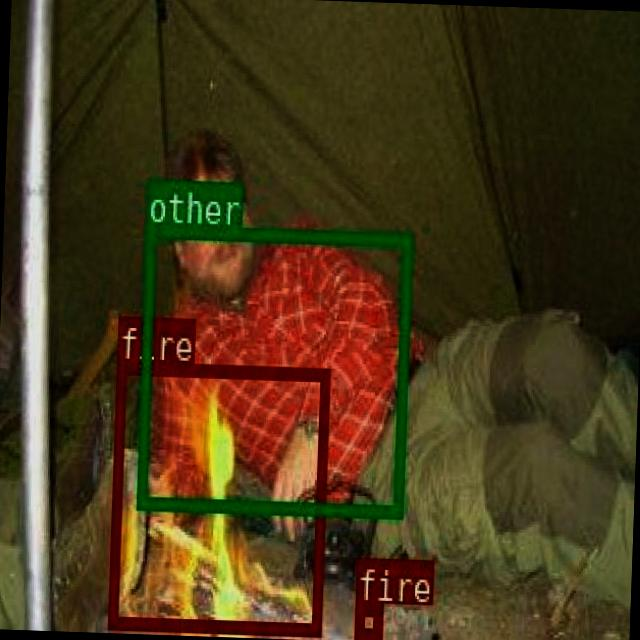fire: (108, 360, 328, 634), (352, 602, 380, 637)
